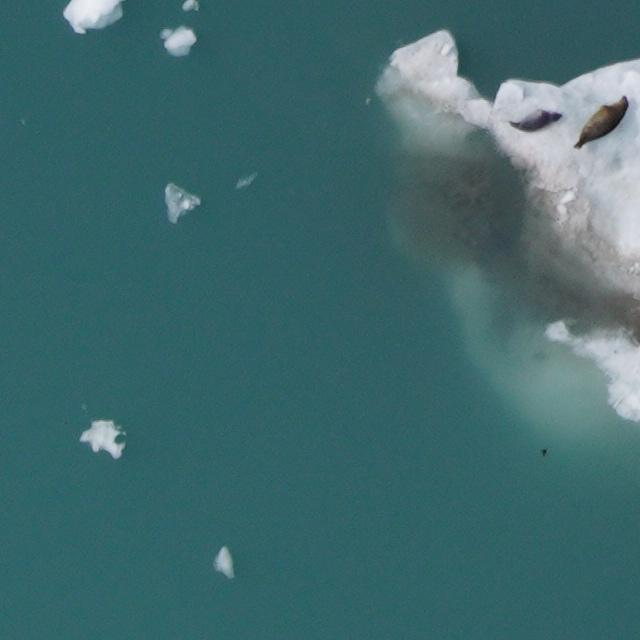seal: (568, 85, 635, 161), (506, 100, 564, 141)
